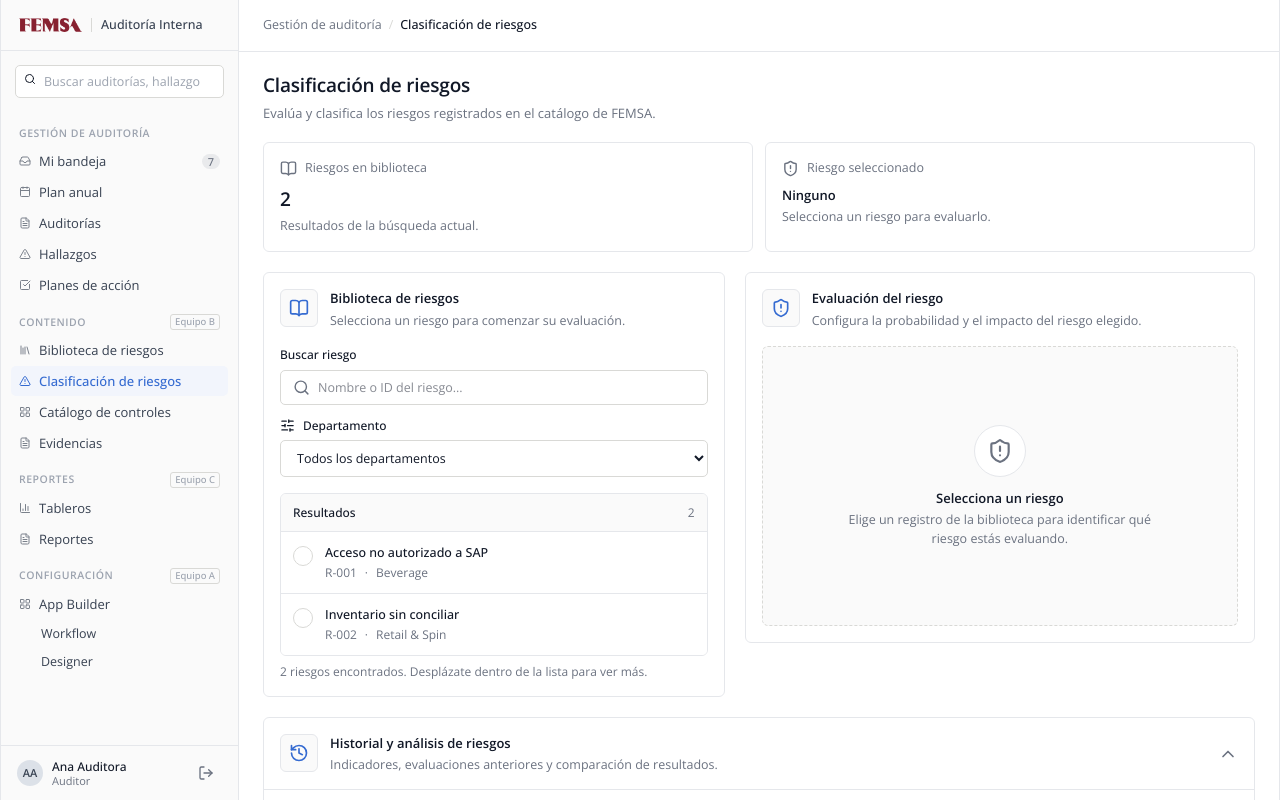
Test: US07 Clasificación de riesgos › muestra el error del backend si no se puede cargar la biblioteca
Type "SAP" into the search field with id "risk-search" at (507, 388), box [318, 371, 695, 404]
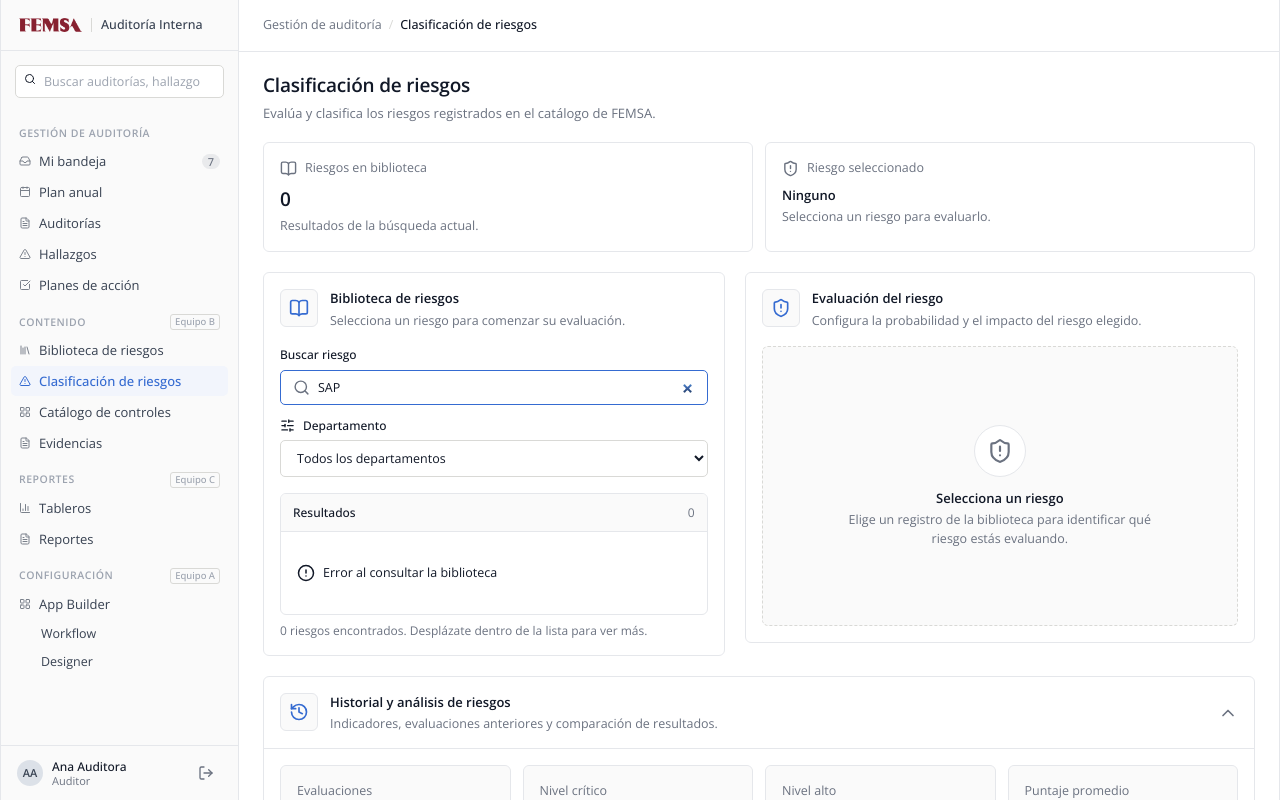
Expected: the text "Error al consultar la biblioteca" is shown, [297, 564, 497, 582]
